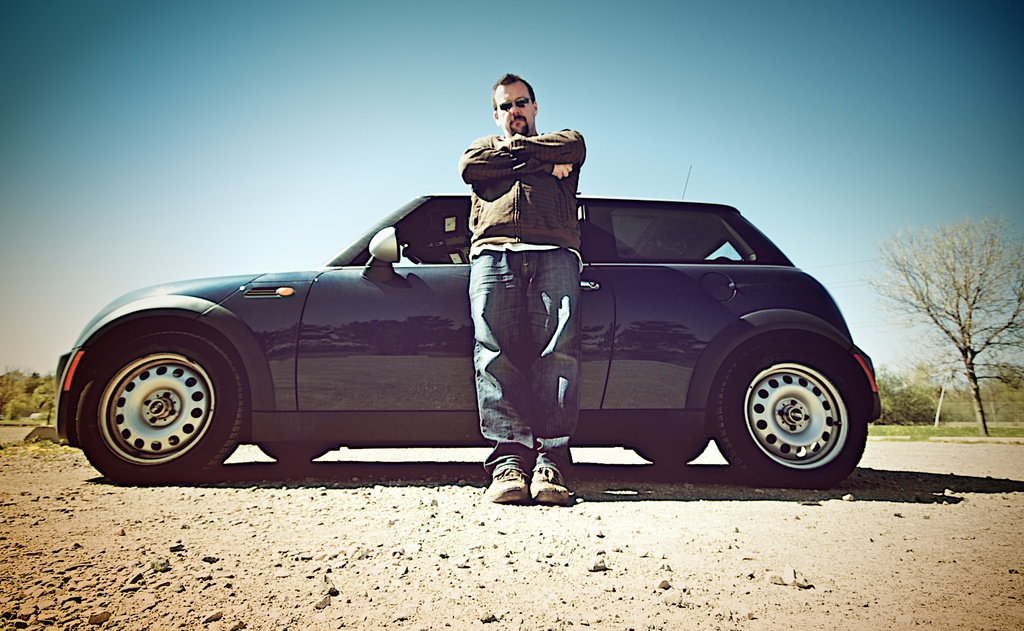Car: (68, 142, 875, 495)
